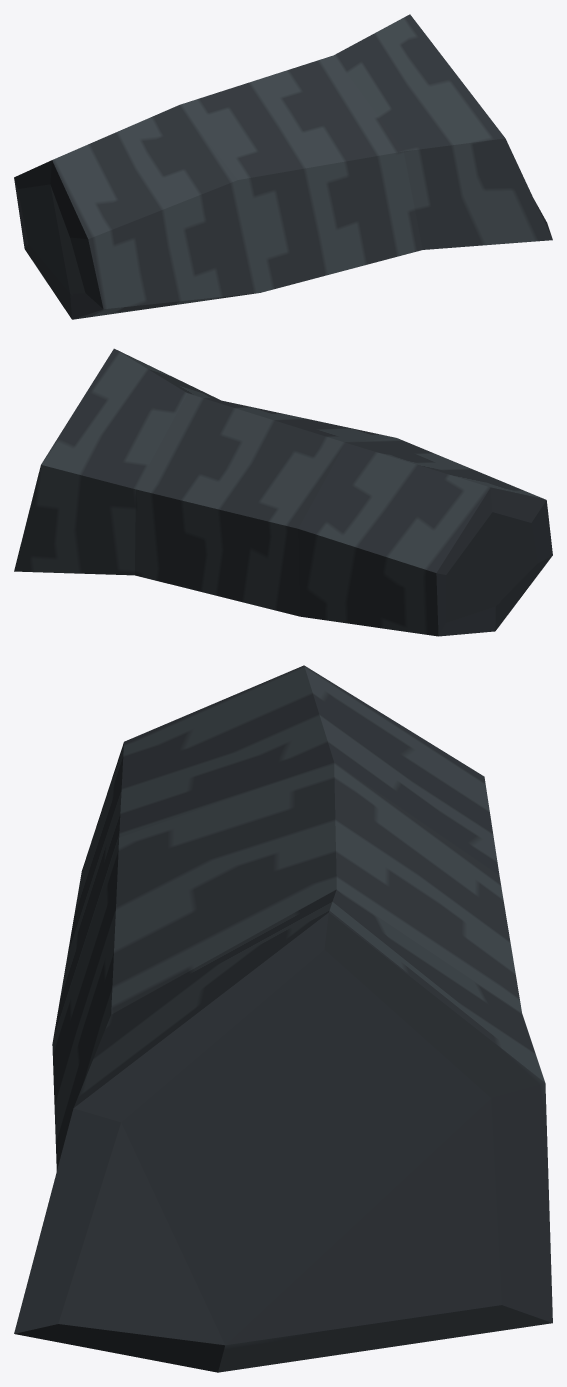
Rendered from Chr_ArmUpperRight_Male_19_Static.fbx.
The picture shows the model from 3 angles, top to bottom: view 1: azimuth 30°, elevation 25°; view 2: azimuth 150°, elevation 25°; view 3: azimuth 270°, elevation 25°; orthographic projection. The views are drawn at different scales.
Parts seen in each view (by area): view 1: Chr_ArmUpperRight_Male_19_Static; view 2: Chr_ArmUpperRight_Male_19_Static; view 3: Chr_ArmUpperRight_Male_19_Static.
Part boxes in pixels (x1,y1,x2,y2): Chr_ArmUpperRight_Male_19_Static: [14, 14, 552, 319]; Chr_ArmUpperRight_Male_19_Static: [14, 348, 552, 636]; Chr_ArmUpperRight_Male_19_Static: [14, 665, 552, 1372].
Bounding box in the file's own units: 0.3255 × 0.1491 × 0.1736.
